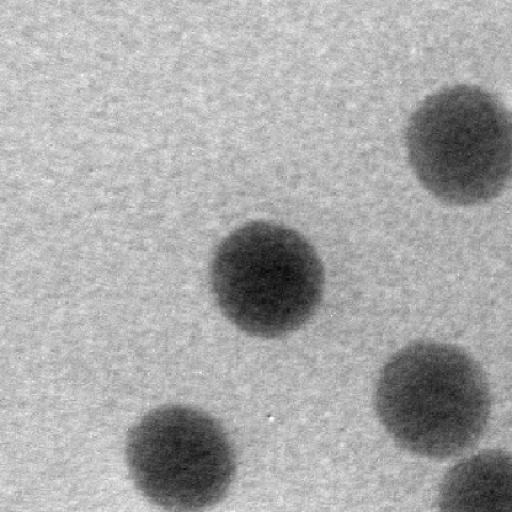Nanoparticles: (373, 336, 493, 460), (212, 218, 326, 340), (405, 84, 512, 205), (124, 403, 238, 512), (440, 448, 512, 512)
